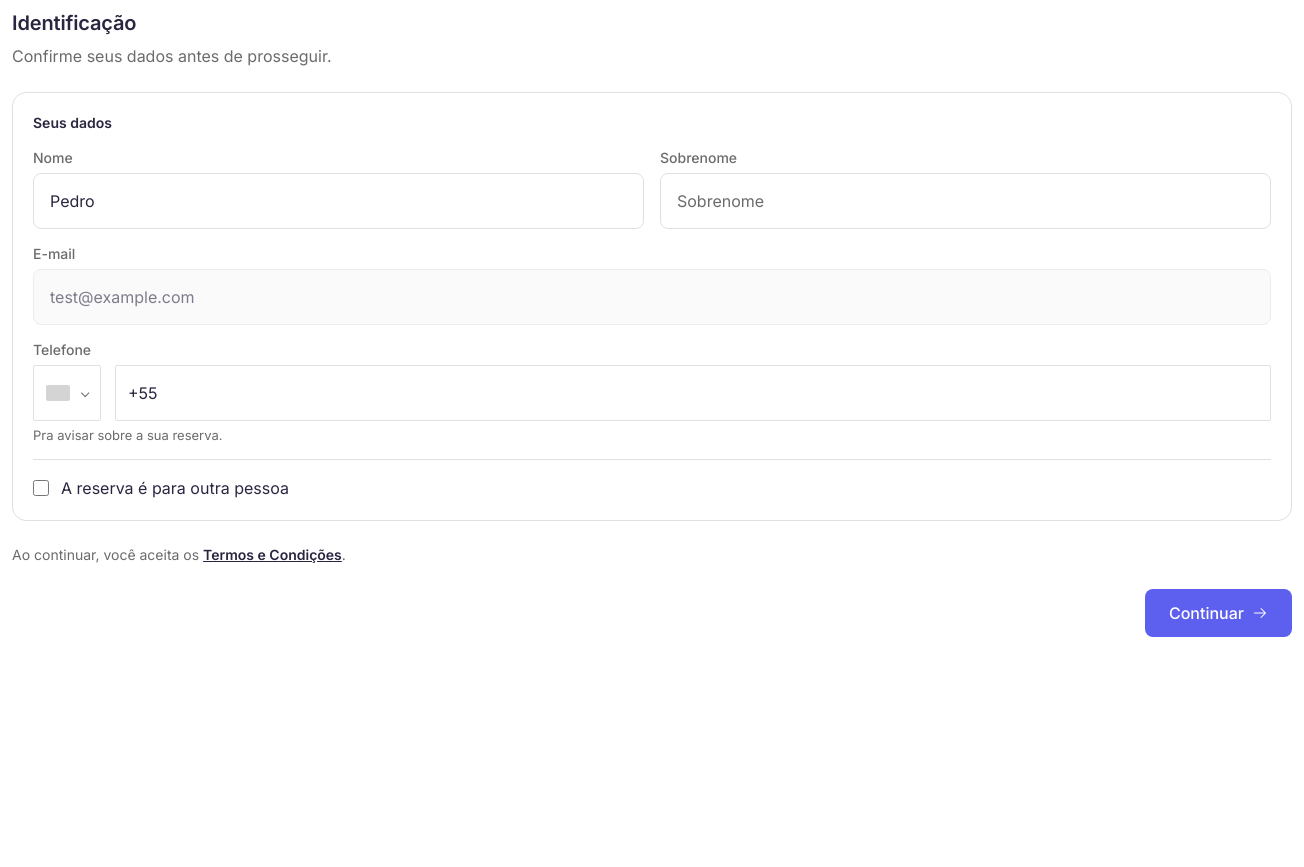
Test case: Step1Identity › expande campos do passageiro ao marcar o checkbox
Click the checkbox labelled "A reserva é para outra pessoa": x=41, y=488 [33,480,49,496]
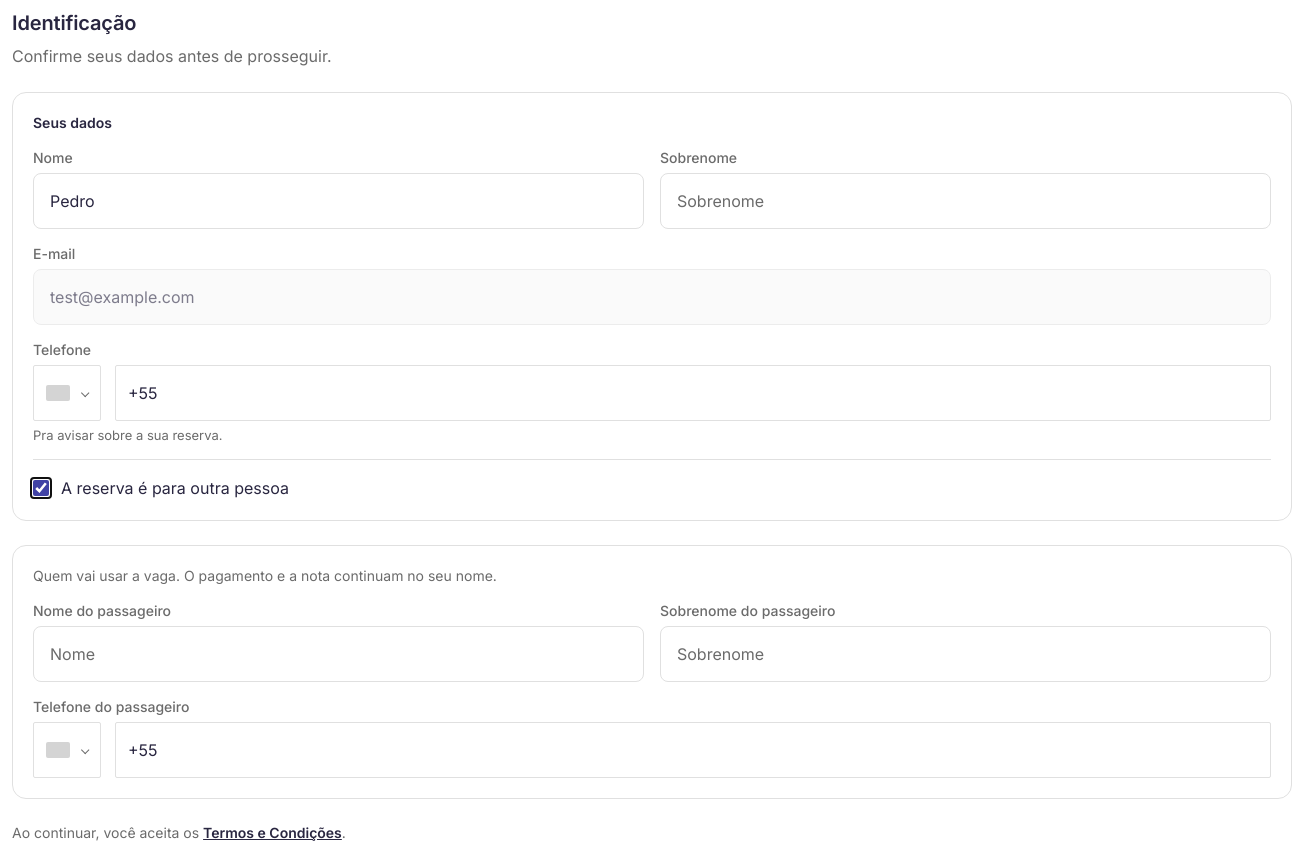
Expected: the field labelled "Nome do passageiro" is shown, [33,626,644,682]
Expected: the field labelled "Telefone do passageiro" is shown, [115,722,1271,778]
